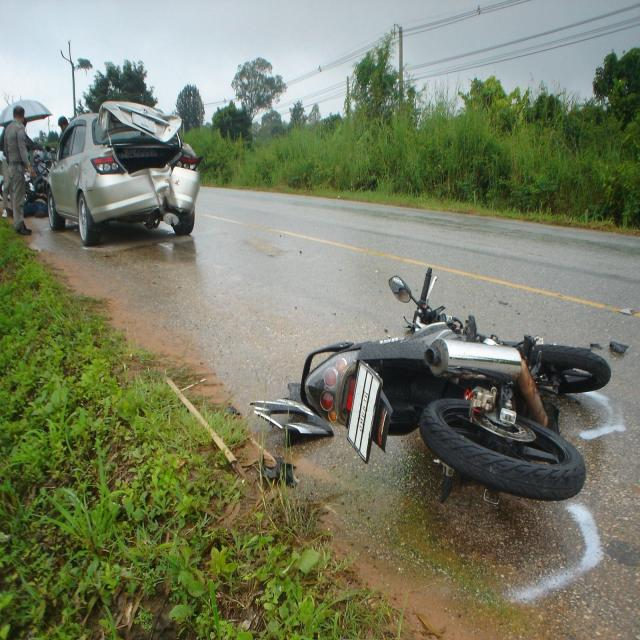accident: (255, 268, 610, 500), (48, 100, 200, 245)
